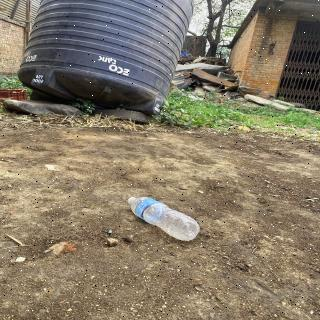Plastic-bottle: (127, 194, 202, 244)
